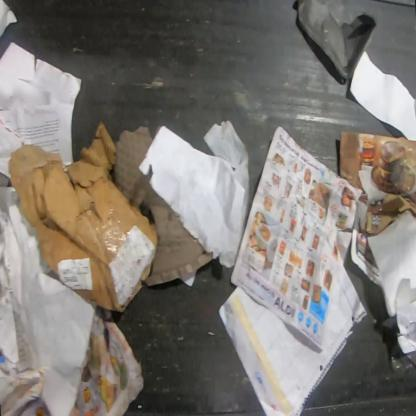cardboard: (7, 120, 159, 315), (338, 130, 415, 237)
rigid_plastic: (296, 0, 378, 81)
